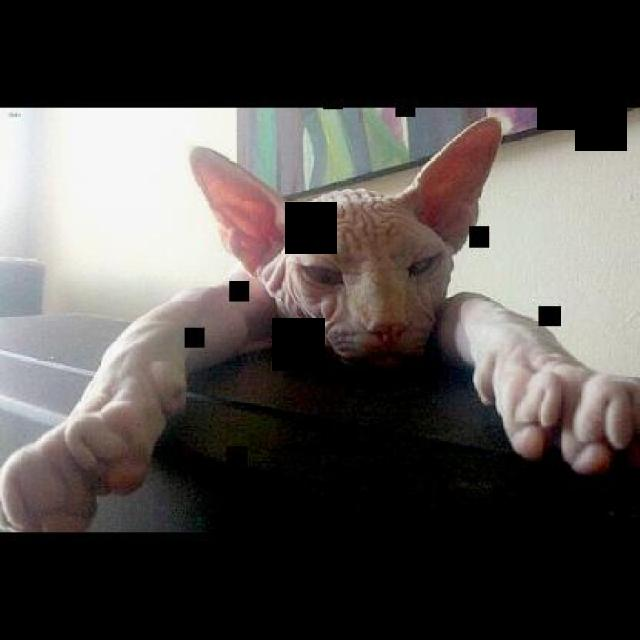unauthorized: (186, 114, 509, 368)
